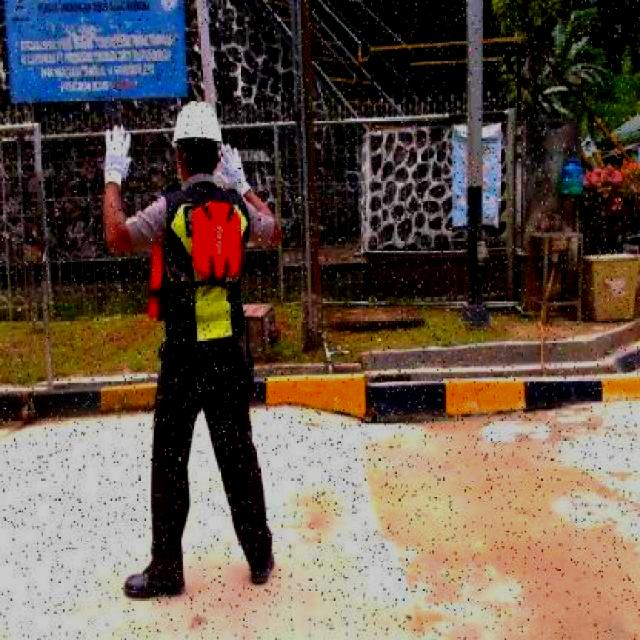Boots: (122, 554, 187, 600), (245, 543, 278, 586)
Gloves: (102, 122, 133, 190), (216, 146, 250, 194)
Helmet: (172, 98, 223, 142)
Mask: (186, 192, 246, 288)
